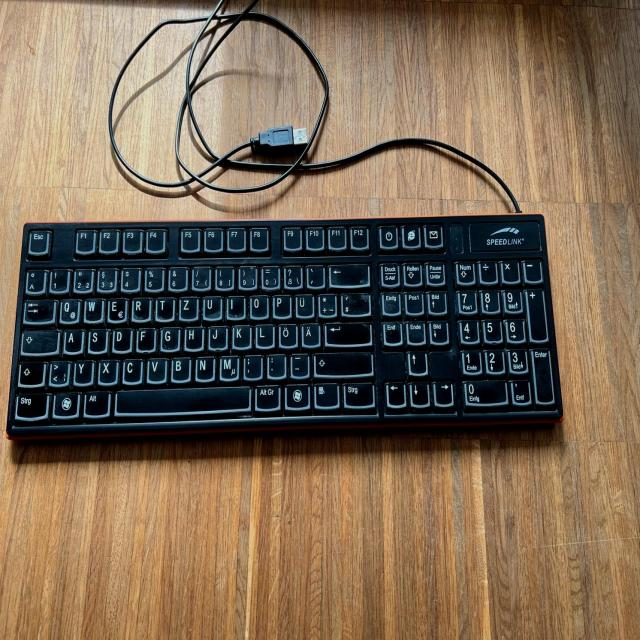0: (259, 263, 278, 288)
1: (48, 266, 67, 290)
2: (72, 265, 92, 290)
3: (95, 265, 114, 291)
4: (119, 265, 138, 289)
5: (142, 264, 162, 288)
6: (166, 263, 185, 288)
7: (190, 264, 209, 288)
8: (213, 263, 232, 288)
9: (236, 262, 255, 287)
a: (62, 326, 81, 350)
accent: (305, 262, 323, 285)
ae: (300, 320, 318, 345)
alt-left: (82, 387, 108, 414)
altgr-right: (253, 382, 279, 408)
b: (169, 354, 189, 379)
c: (120, 355, 140, 381)
caret: (24, 266, 43, 290)
comma: (241, 352, 260, 377)
d: (110, 325, 130, 350)
del: (327, 260, 368, 284)
e: (106, 294, 125, 320)
enter: (322, 319, 369, 343)
f: (135, 325, 154, 349)
g: (158, 323, 177, 348)
h: (182, 323, 201, 347)
hash: (340, 290, 370, 314)
i: (225, 293, 243, 317)
j: (206, 322, 225, 348)
k: (231, 321, 250, 346)
keyboard: (2, 211, 565, 443)
l: (253, 321, 272, 345)
less: (47, 357, 68, 384)
m: (217, 352, 237, 378)
minus: (289, 350, 307, 375)
n: (193, 354, 212, 379)
o: (248, 292, 267, 316)
oe: (277, 321, 296, 345)
p: (271, 292, 289, 316)
plus: (316, 290, 335, 314)
point: (265, 351, 284, 375)
q: (58, 295, 78, 321)
r: (129, 295, 149, 319)
s: (86, 325, 105, 350)
shift-left: (16, 359, 43, 384)
shift-lock: (20, 327, 57, 351)
shift-right: (312, 349, 371, 373)
space: (113, 384, 249, 412)
ss: (281, 262, 300, 286)
strg-left: (12, 389, 47, 416)
strg-right: (340, 380, 373, 406)
t: (154, 294, 172, 318)
tab: (22, 296, 53, 321)
u: (200, 293, 220, 318)
ue: (293, 291, 312, 315)
v: (145, 355, 165, 380)
w: (82, 295, 102, 320)
x: (97, 356, 116, 382)
y: (72, 357, 91, 382)
z: (177, 293, 196, 318)
